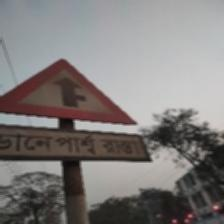Side-road-right: (0, 57, 152, 165)
